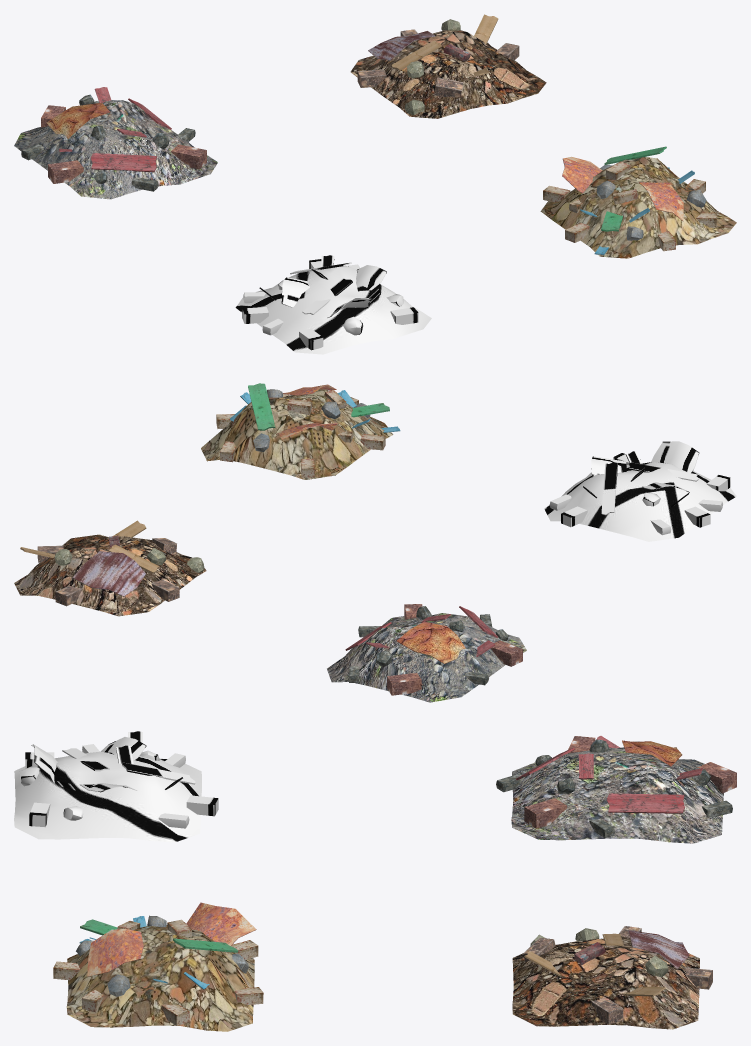
File: junk.fbx
3 renders of one model, top to bottom at view 1: azimuth 30°, elevation 25°; view 2: azimuth 150°, elevation 25°; view 3: azimuth 270°, elevation 25°, orthographic. The views are drawn at different scales.
Parts seen in each view (by area): view 1: Plane.002, Plane.005, Plane.003, Plane.006; view 2: Plane.002, Plane.005, Plane.006, Plane.003; view 3: Plane.002, Plane.005, Plane.006, Plane.003.
Boxes of the visible parts, x1,y1,x2,y2 form: Plane.002: (540, 146, 736, 258); Plane.005: (14, 87, 217, 199); Plane.003: (350, 14, 546, 118); Plane.006: (235, 255, 431, 354); Plane.002: (201, 383, 400, 479); Plane.005: (327, 604, 526, 702); Plane.006: (544, 441, 736, 541); Plane.003: (14, 520, 206, 616); Plane.002: (53, 902, 263, 1031); Plane.005: (496, 736, 736, 843); Plane.006: (14, 731, 218, 842); Plane.003: (512, 926, 712, 1029).
Size of the model in its own units: 1141 by 137 by 1265.
